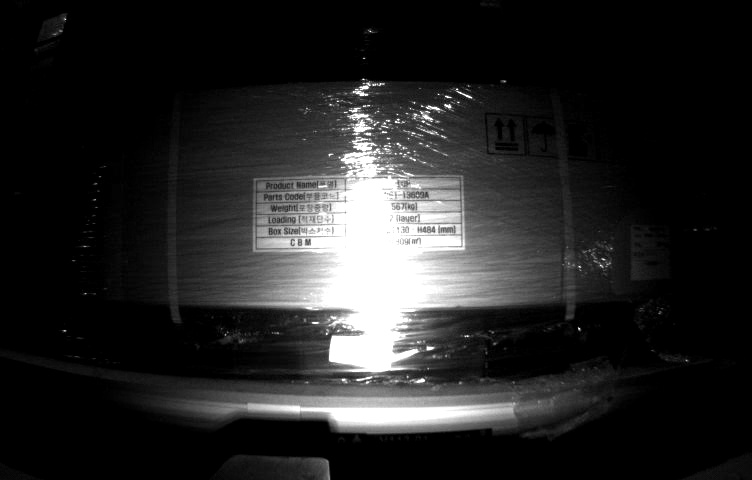True Barcode: (630, 224, 693, 280)
